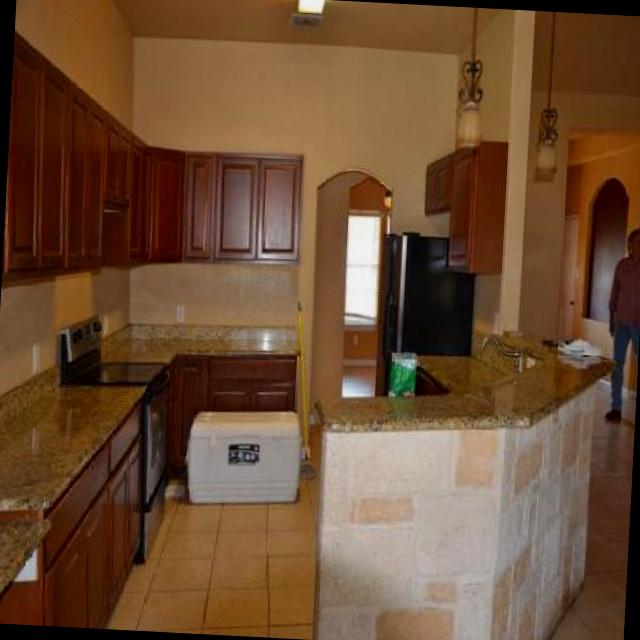Person: (604, 226, 640, 420)
